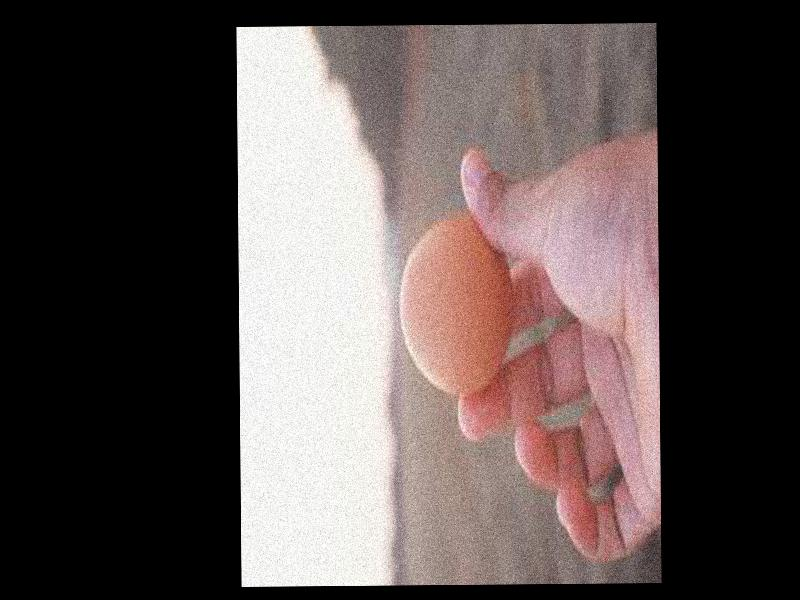Eggs: (398, 217, 512, 396)
